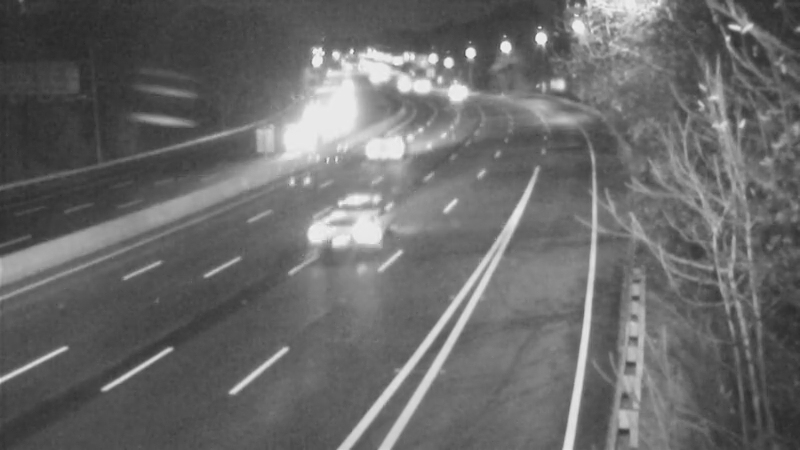vehicle: (312, 191, 392, 271), (435, 64, 485, 114), (356, 117, 406, 167), (271, 116, 321, 166)
